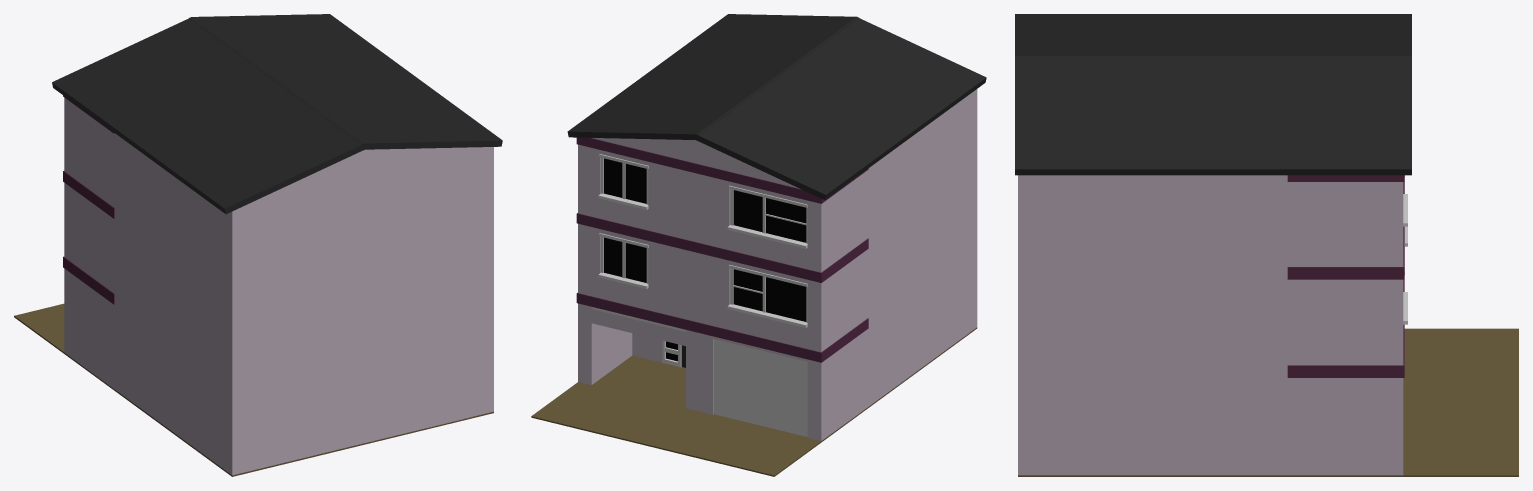
File: WhitishBrickHouse.glb
3 renders of one model, left to right at view 1: azimuth 30°, elevation 25°; view 2: azimuth 150°, elevation 25°; view 3: azimuth 270°, elevation 25°, orthographic. The views are drawn at different scales.
Parts seen in each view (by area): view 1: BuildingBack, RoofLayer3, RoofLayer2, BuildingLowColumn2, UnderRoof1, UnderRoof2, SidewalkFloor3, GarageRoof2, BrickLayer2, RoofLayer4, SidewalkFloor2; view 2: BuildingBack, RoofLayer3, RoofLayer2, BuildingLowColumn2, SidewalkFloor, GarageDoor, SidewalkFloor3, BuildingLowColumn, SecondStoryBase2, SecondStoryBase, GarageRoof2, BrickLayer2 (+23 smaller); view 3: BuildingBack, RoofLayer2, BuildingLowColumn, RoofLayer3, SidewalkFloor, SidewalkFloor3, GarageRoof2, BrickLayer2, BrickLayer3.
Boxes of the visible parts, left/top/right/bottom form: BuildingBack: left=114, top=133, right=493, bottom=475; RoofLayer3: left=52, top=18, right=363, bottom=214; RoofLayer2: left=193, top=14, right=502, bottom=149; BuildingLowColumn2: left=64, top=97, right=114, bottom=388; UnderRoof1: left=363, top=147, right=487, bottom=177; UnderRoof2: left=242, top=150, right=362, bottom=206; SidewalkFloor3: left=14, top=303, right=123, bottom=396; GarageRoof2: left=63, top=256, right=114, bottom=304; BrickLayer2: left=63, top=171, right=114, bottom=218; RoofLayer4: left=189, top=17, right=364, bottom=150; SidewalkFloor2: left=123, top=396, right=362, bottom=476; BuildingBack: left=868, top=89, right=977, bottom=406; RoofLayer3: left=697, top=18, right=986, bottom=199; RoofLayer2: left=567, top=14, right=855, bottom=139; BuildingLowColumn2: left=807, top=170, right=867, bottom=440; SidewalkFloor: left=531, top=355, right=698, bottom=447; GarageDoor: left=714, top=339, right=807, bottom=436; SidewalkFloor3: left=653, top=402, right=875, bottom=476; BuildingLowColumn: left=578, top=144, right=632, bottom=385; SecondStoryBase2: left=591, top=195, right=807, bottom=269; SecondStoryBase: left=591, top=274, right=807, bottom=348; GarageRoof2: left=576, top=292, right=868, bottom=362; BrickLayer2: left=576, top=213, right=868, bottom=282; BuildingBack: left=1018, top=175, right=1287, bottom=475; RoofLayer2: left=1015, top=57, right=1411, bottom=175; BuildingLowColumn: left=1287, top=182, right=1403, bottom=475; RoofLayer3: left=1015, top=14, right=1411, bottom=55; SidewalkFloor: left=1018, top=402, right=1518, bottom=476; SidewalkFloor3: left=1403, top=328, right=1518, bottom=401; GarageRoof2: left=1287, top=279, right=1404, bottom=377; BrickLayer2: left=1287, top=182, right=1404, bottom=279; BrickLayer3: left=1287, top=175, right=1404, bottom=181.
Bounding box in the file's own units: 9.57 × 9.95 × 13.08.
